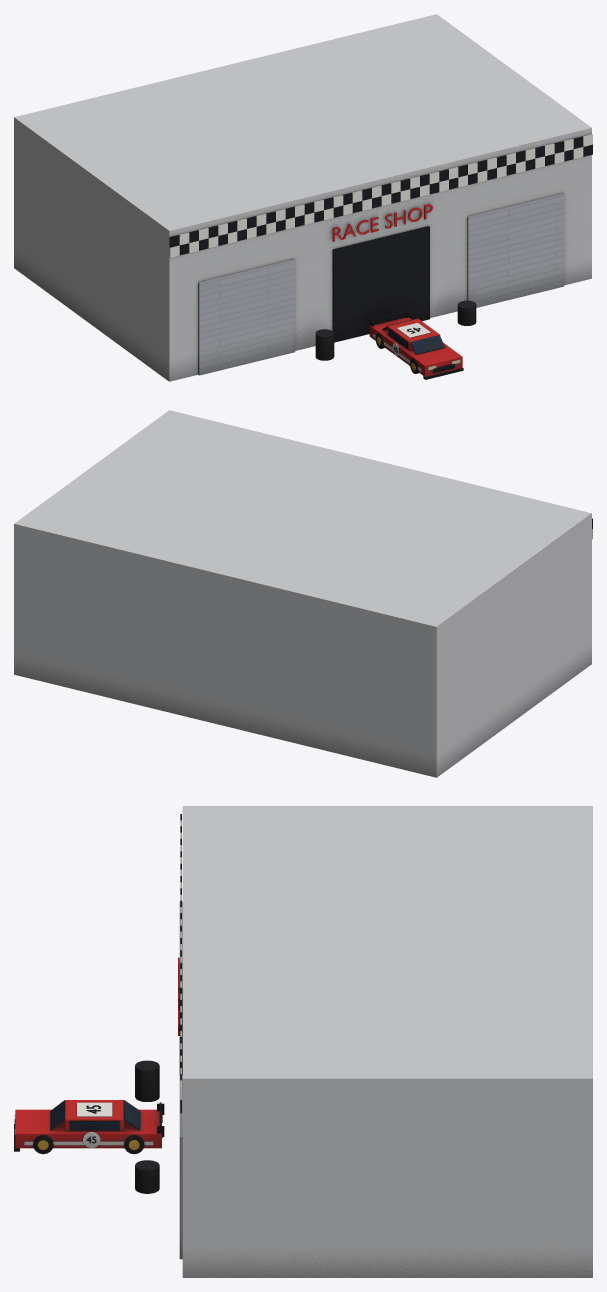
File: garaje_carreras.glb
3 renders of one model, top to bottom at view 1: azimuth 30°, elevation 25°; view 2: azimuth 150°, elevation 25°; view 3: azimuth 270°, elevation 25°, orthographic. The views are drawn at different scales.
Parts seen in each view (by area): view 1: garaje_carreras; view 2: garaje_carreras; view 3: garaje_carreras.
Part boxes in pixels (left/top/right/bottom): garaje_carreras: left=14, top=14, right=592, bottom=381; garaje_carreras: left=14, top=410, right=592, bottom=777; garaje_carreras: left=14, top=806, right=592, bottom=1277.
Size of the model in its own units: 22 by 7.5 by 19.75.
Materials: 1 (1 with a texture image).
